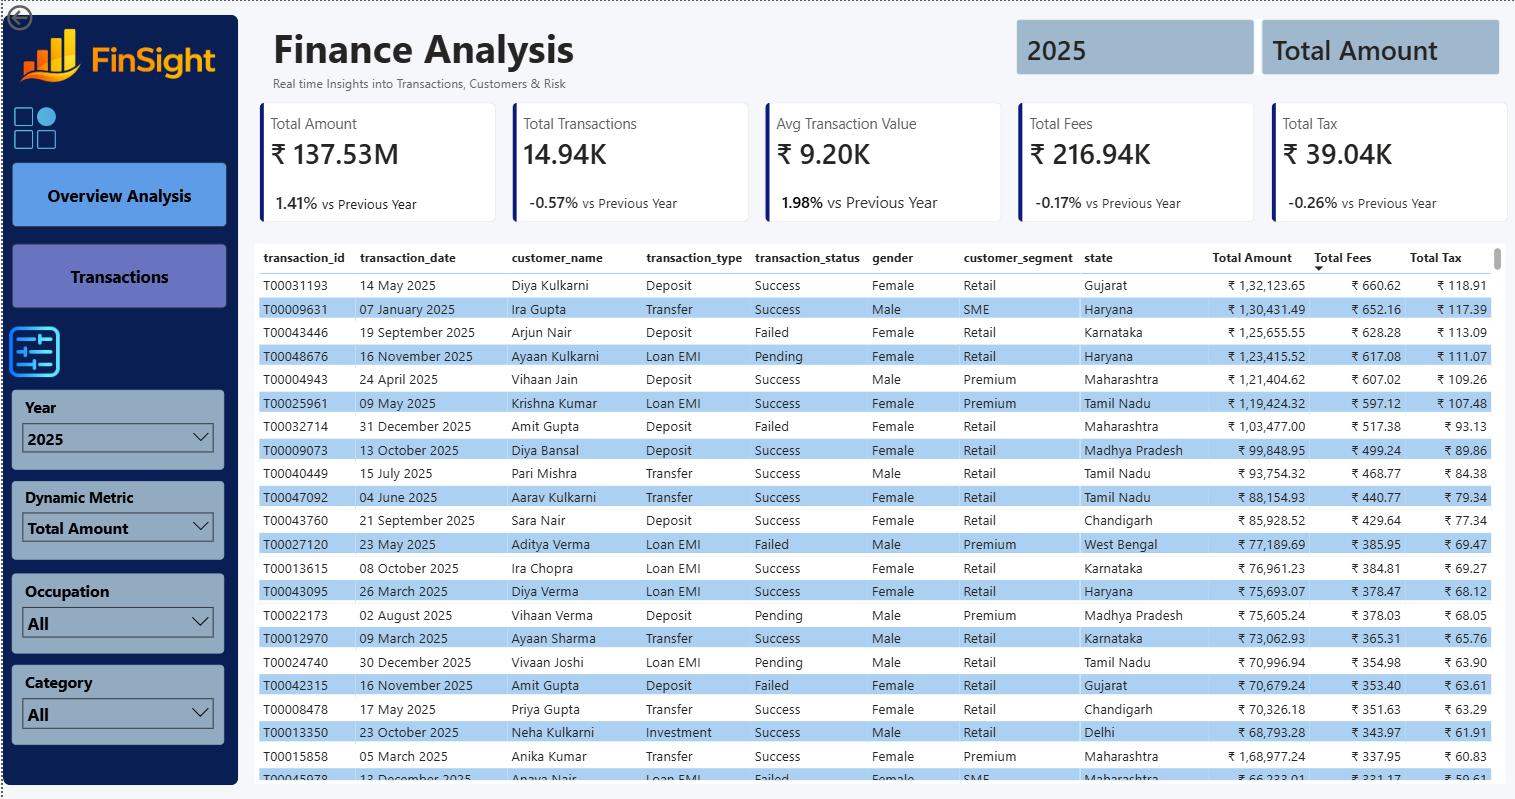

What the dashboard file says about the page in this screenshot:
{"tool":"powerbi","page":{"name":"Transactions","canvas":[1800,950],"ordinal":1},"visuals":[{"type":"shape","box":[0,16.7,280,916.7],"z":0},{"type":"cardVisual","fields":{"Data":["finance_transactions.Dahboard Title"]},"box":[298.7,16.4,544.9,98.5],"z":2000},{"type":"cardVisual","fields":{"Data":["finance_transactions.Total Amount","finance_transactions.Total Transactions","finance_transactions.Avg Transaction Value","finance_transactions.Total Fees","finance_transactions.Total Tax"]},"box":[298.7,114.9,1501.8,154.3],"z":3000},{"type":"image","box":[515.4,126.4,49.2,49.2],"z":4000},{"type":"image","box":[819,126.4,49.2,49.2],"z":5000},{"type":"image","box":[1431.2,126.4,49.2,49.2],"z":6000},{"type":"image","box":[1126,126.4,49.2,49.2],"z":7000},{"type":"image","box":[1738.2,126.4,50,50],"z":8000},{"type":"shape","box":[298.7,288.9,1488.7,643.4],"z":9000},{"type":"cardVisual","fields":{"Data":["finance_transactions.Selected Year","finance_transactions.Selected Dynamic Measure"]},"box":[1199.8,16.4,587.6,77.1],"z":10000},{"type":"tableEx","fields":{"Values":["finance_transactions.transaction_id","finance_transactions.transaction_date","customers.customer_name","finance_transactions.transaction_type","finance_transactions.transaction_status","customers.gender","customers.customer_segment","customers.state","finance_transactions.Total Amount","finance_transactions.Total Fees","finance_transactions.Total Tax"]},"box":[298.7,288.9,1488.7,643.4],"z":11000},{"type":"actionButton","box":[0,0,100,40],"z":12000},{"type":"image","box":[9.8,16.4,257.7,98.5],"z":12001},{"type":"cardVisual","fields":{"Data":["finance_transactions.Total Amount","finance_transactions.Total Transactions","finance_transactions.Avg Transaction Value","finance_transactions.Total Fees","finance_transactions.Total Tax"]},"box":[298.2,114.9,1501.8,154.3],"z":12002},{"type":"slicer","fields":{"Values":["Calendar Table.Year"]},"box":[9.8,462.9,252.8,95.2],"z":12003},{"type":"slicer","fields":{"Values":["Dynamic Metric.Dynamic Metric"]},"box":[9.8,571.2,252.8,93.6],"z":12004},{"type":"slicer","fields":{"Values":["customers.occupation"]},"box":[9.8,681.2,252.8,95.2],"z":12005},{"type":"slicer","fields":{"Values":["finance_transactions.merchant_category"]},"box":[9.8,789.5,252.8,95.2],"z":12006},{"type":"pageNavigator","box":[9.8,192,256,175.6],"z":12007},{"type":"image","box":[13.1,126.4,49.2,49.2],"z":12008},{"type":"image","box":[3.3,382.4,68.9,70.6],"z":12009}]}

Visuals, with their boxes on the page's 1800x950 design canvas (x1, y1, x2, y2). These are canvas units, not pixel positions in the 1515x799 screenshot, which may show the page scaled, cropped or inside an application window:
shape: 0,17,280,933
cardVisual - finance_transactions.Dahboard Title: 299,16,844,115
cardVisual - finance_transactions.Total Amount x finance_transactions.Total Transactions: 299,115,1800,269
image: 515,126,565,176
image: 819,126,868,176
image: 1431,126,1480,176
image: 1126,126,1175,176
image: 1738,126,1788,176
shape: 299,289,1787,932
cardVisual - finance_transactions.Selected Year x finance_transactions.Selected Dynamic Measure: 1200,16,1787,94
tableEx - finance_transactions.transaction_id x finance_transactions.transaction_date: 299,289,1787,932
actionButton: 0,0,100,40
image: 10,16,268,115
cardVisual - finance_transactions.Total Amount x finance_transactions.Total Transactions: 298,115,1800,269
slicer - Calendar Table.Year: 10,463,263,558
slicer - Dynamic Metric.Dynamic Metric: 10,571,263,665
slicer - customers.occupation: 10,681,263,776
slicer - finance_transactions.merchant_category: 10,790,263,885
pageNavigator: 10,192,266,368
image: 13,126,62,176
image: 3,382,72,453
